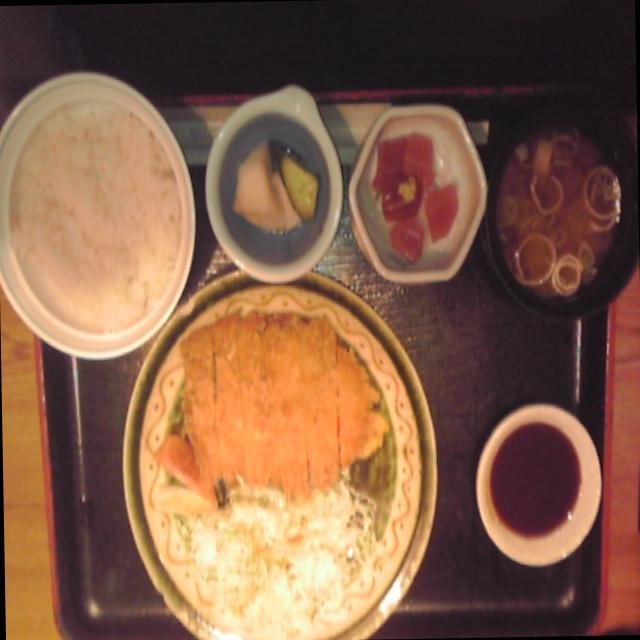Rice: (20, 78, 184, 318)
